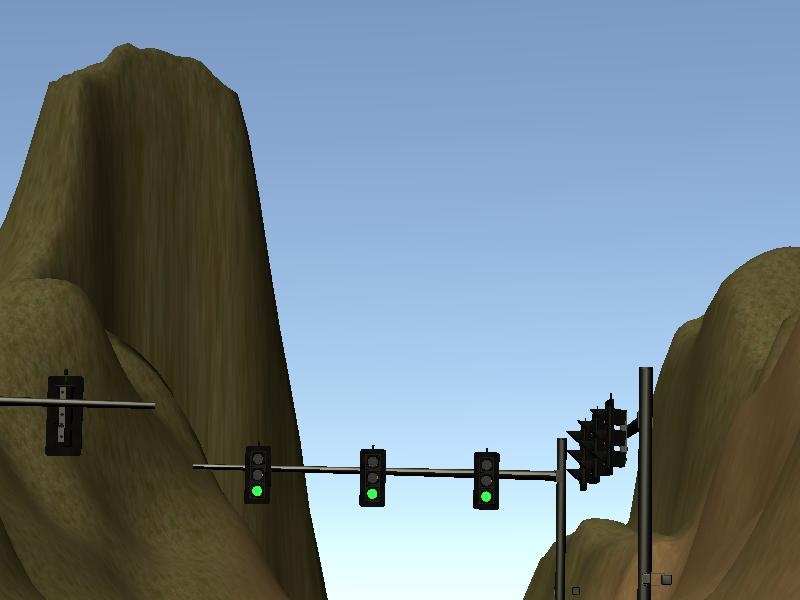GREEN: (473, 453, 498, 510), (359, 449, 384, 506), (244, 448, 269, 505)
